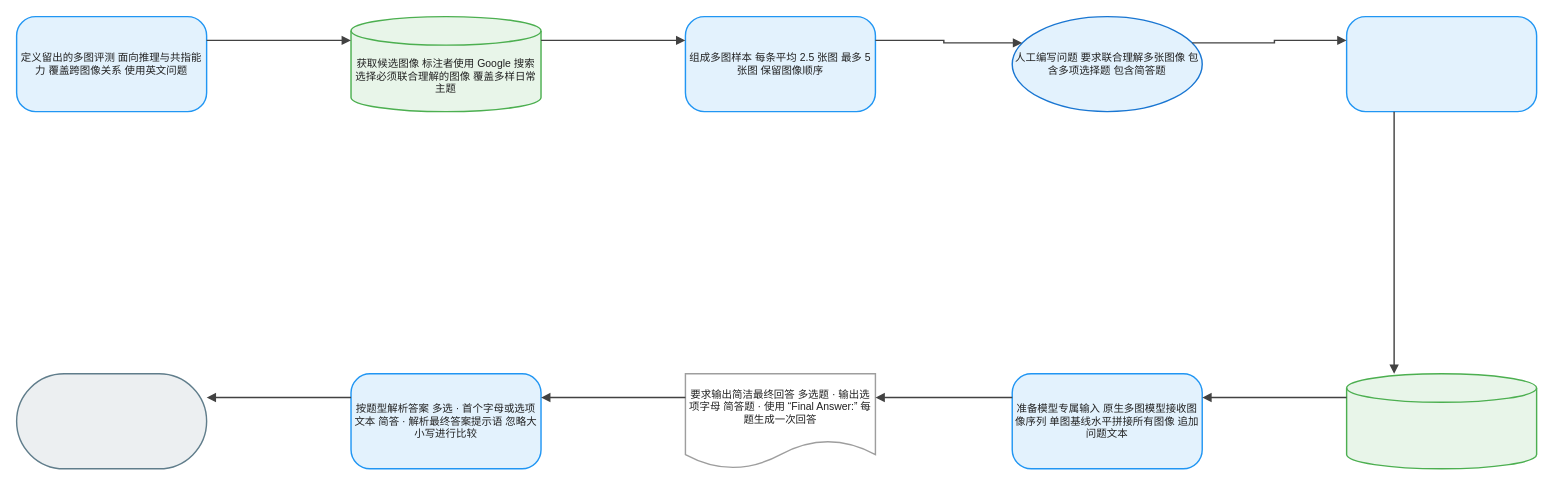
Some shapes in this 1554 by 486 pixel diagram are drawn without their labels. Each missing label, with the box of its shape:
发布 Mantis-Eval 共 217 条测试样本 包含多选题与简答题 不进入 Mantis 训练数据: (1345, 373, 1537, 469)
完成人工整理 主题包括大小感知 重量比较及其他关系 保留两种问题格式: (1345, 15, 1537, 112)
报告准确率 多选题准确率 简答题准确率 总体平均正确率: (15, 373, 207, 469)
